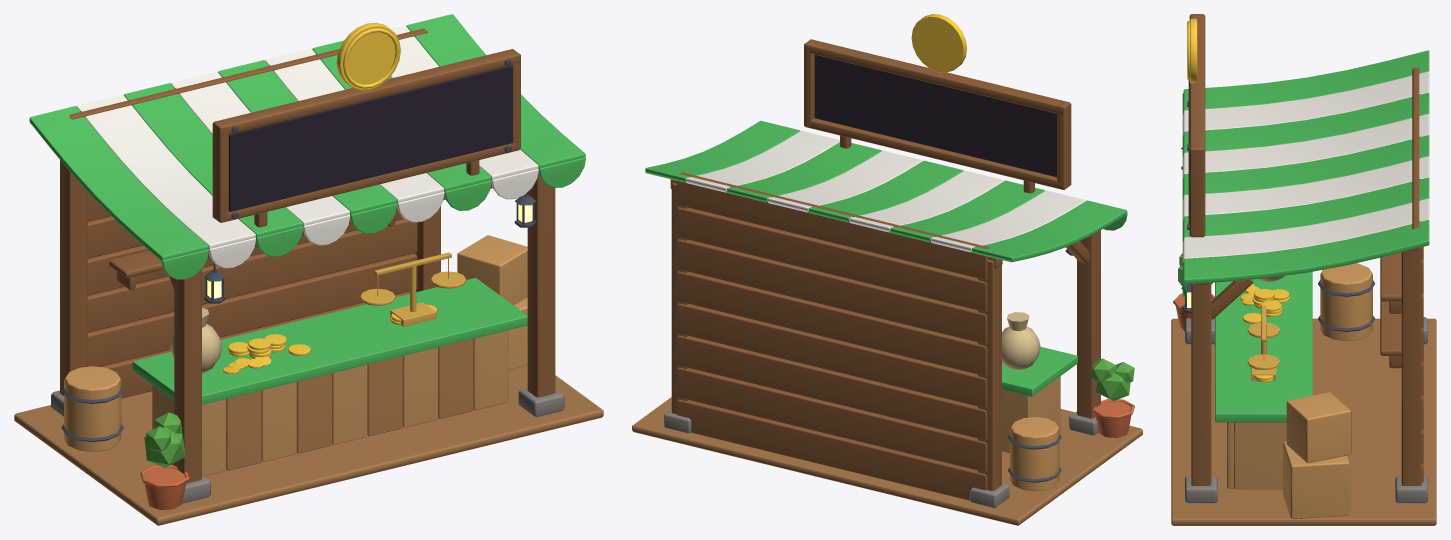
Rendered from stall-sell.glb.
The picture shows the model from 3 angles, left to right: view 1: azimuth 30°, elevation 25°; view 2: azimuth 150°, elevation 25°; view 3: azimuth 270°, elevation 25°; orthographic projection. The views are drawn at different scales.
Parts seen in each view (by area): view 1: StallSell_Frame, StallSell_Accent, StallSell_SignBoard, StallSell_Floor, StallSell_Cloth, StallSell_Counter, StallSell_CounterAlt, StallSell_Crates, StallSell_Icon, StallSell_Scale, StallSell_Coins, StallSell_Stone (+4 smaller); view 2: StallSell_Frame, StallSell_Accent, StallSell_SignBoard, StallSell_Cloth, StallSell_Floor, StallSell_Crates, StallSell_Icon, StallSell_Counter, StallSell_Sack, StallSell_Stone, StallSell_Plant, StallSell_Pot; view 3: StallSell_Accent, StallSell_Floor, StallSell_Cloth, StallSell_Frame, StallSell_Crates, StallSell_Counter, StallSell_Stone, StallSell_Coins, StallSell_Scale, StallSell_Icon, StallSell_Hoops, StallSell_Pot.
Part boxes in pixels (x1,y1,x2,y2): StallSell_Frame: (60,28,555,483); StallSell_Accent: (29,14,585,404); StallSell_SignBoard: (229,66,512,211); StallSell_Floor: (14,365,603,525); StallSell_Cloth: (76,25,538,268); StallSell_Counter: (152,330,508,476); StallSell_CounterAlt: (226,339,473,470); StallSell_Crates: (64,235,527,452); StallSell_Icon: (336,22,400,90); StallSell_Scale: (360,252,466,326); StallSell_Coins: (223,304,437,374); StallSell_Stone: (51,388,564,503); StallSell_Frame: (670,39,1100,500); StallSell_Accent: (645,120,1127,396); StallSell_SignBoard: (814,54,1056,177); StallSell_Cloth: (686,130,1085,252); StallSell_Floor: (632,397,1142,525); StallSell_Crates: (1010,417,1059,491); StallSell_Icon: (911,14,966,72); StallSell_Counter: (1002,376,1060,453); StallSell_Sack: (1002,312,1040,369); StallSell_Stone: (664,409,1098,508); StallSell_Plant: (1090,358,1134,401); StallSell_Pot: (1092,398,1134,437); StallSell_Accent: (1182,50,1429,422); StallSell_Floor: (1171,318,1436,525); StallSell_Cloth: (1182,71,1429,262); StallSell_Frame: (1189,14,1423,485); StallSell_Crates: (1283,263,1372,519); StallSell_Counter: (1227,422,1286,489); StallSell_Stone: (1185,317,1427,503); StallSell_Coins: (1240,284,1289,382); StallSell_Scale: (1247,305,1280,380); StallSell_Icon: (1187,18,1197,83); StallSell_Hoops: (1318,280,1375,331); StallSell_Pot: (1173,293,1214,330).
Size of the model in its own units: 19.17 by 17.81 by 10.6.
